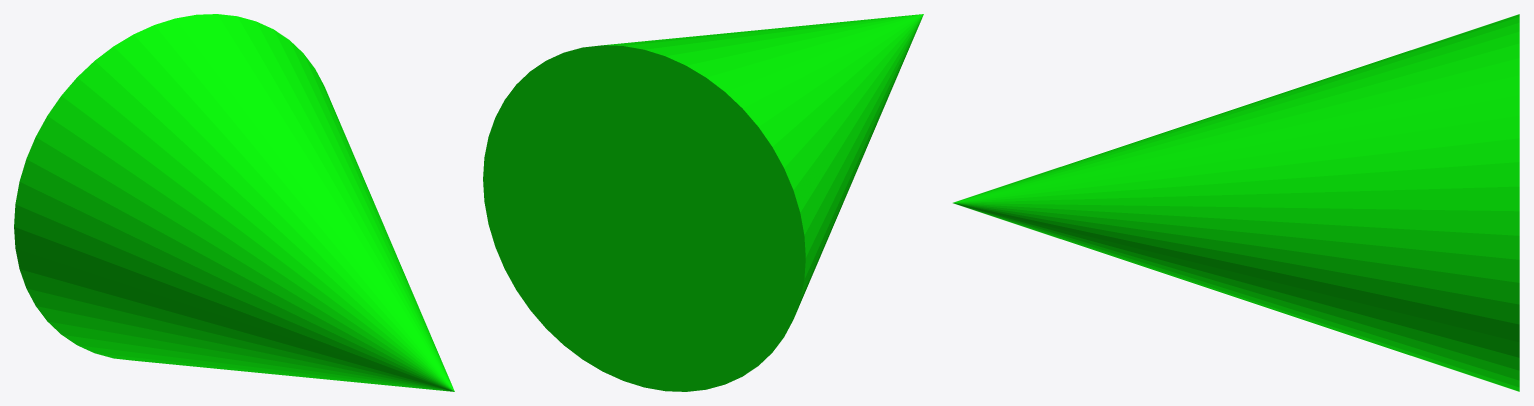
The model's file is cone_green.obj.
3 views of the same model, side by side, from view 1: azimuth 30°, elevation 25°; view 2: azimuth 150°, elevation 25°; view 3: azimuth 270°, elevation 25° (orthographic).
Visible parts, largest first — view 1: obj_0; view 2: obj_0; view 3: obj_0.
Boxes of the visible parts, x1,y1,x2,y2 form: obj_0: (14, 14, 454, 391); obj_0: (483, 14, 923, 391); obj_0: (953, 14, 1519, 391).
Bounding box in the file's own units: 20 × 20 × 30.
